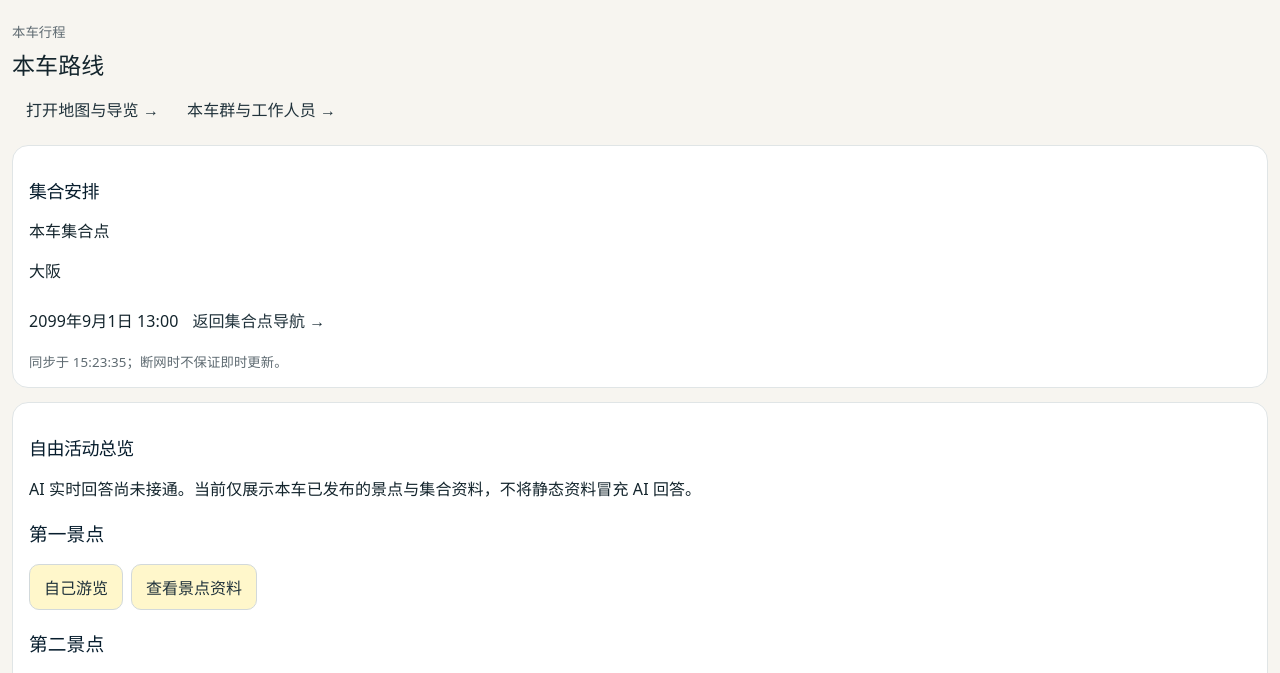
Test: 本车景点导览行为 › 景点独立阅读，结束回总览，集合更新打断且确认提交服务端版本
Click the button "查看景点资料" below "第一景点" at (194, 587), box [131,564,257,610]
(page scrolled)
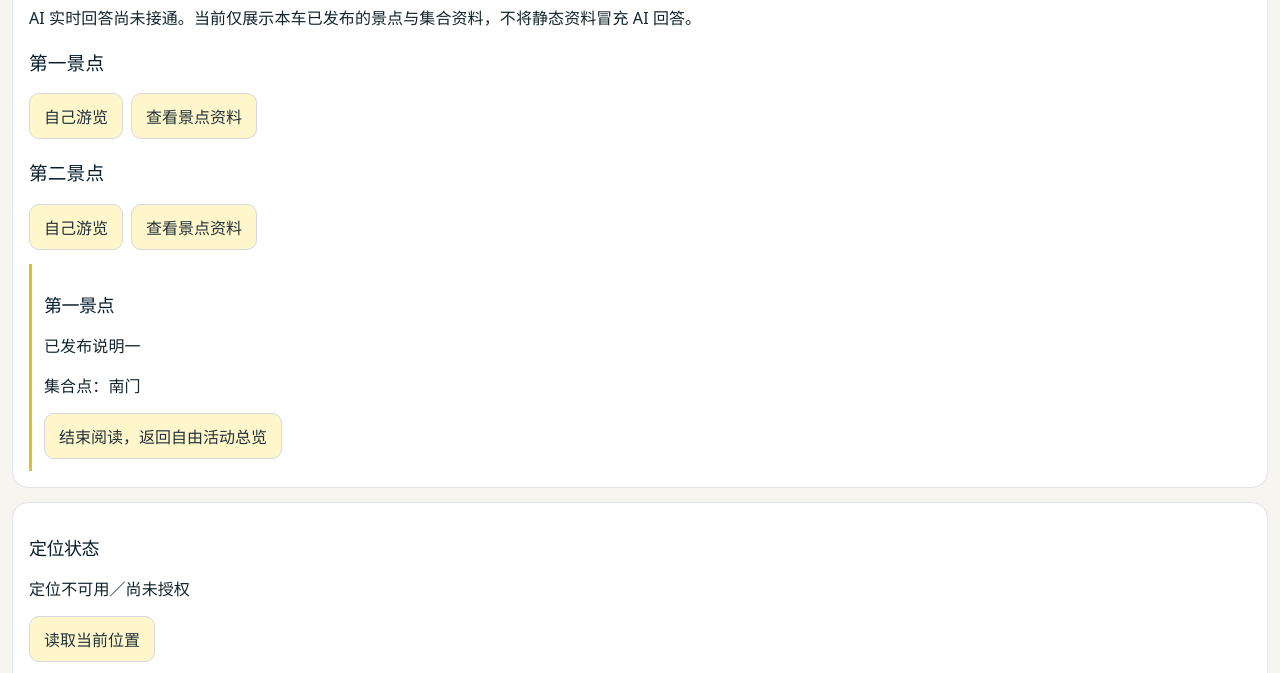
Expected: the text "已发布说明一" is shown, [44,335,141,357]
Click the button "结束阅读，返回自由活动总览" at (163, 436), box [44,413,282,459]
(page scrolled)
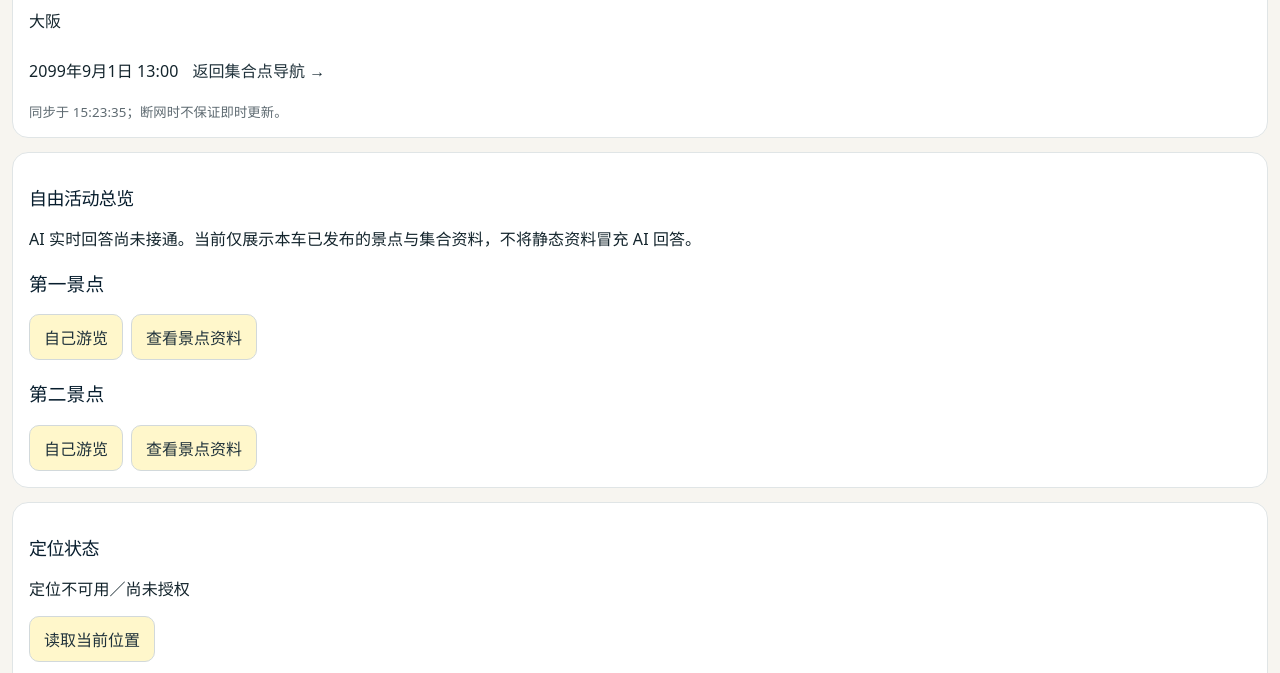
Click the button "查看景点资料" below "第二景点" at (194, 448), box [131,425,257,471]
(page scrolled)
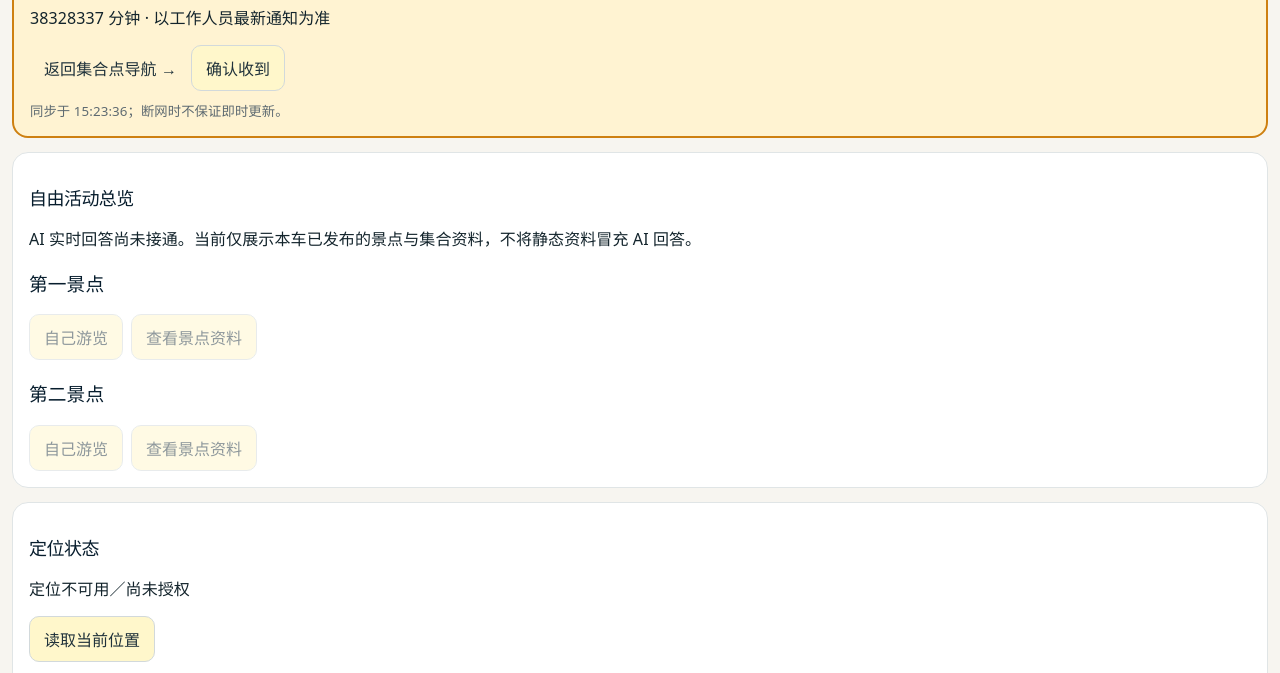
Expected: the button "查看景点资料" below "第一景点" is disabled, [131,314,257,360]
Click the button "确认收到" at (238, 68), box [191,45,285,91]
(page scrolled)
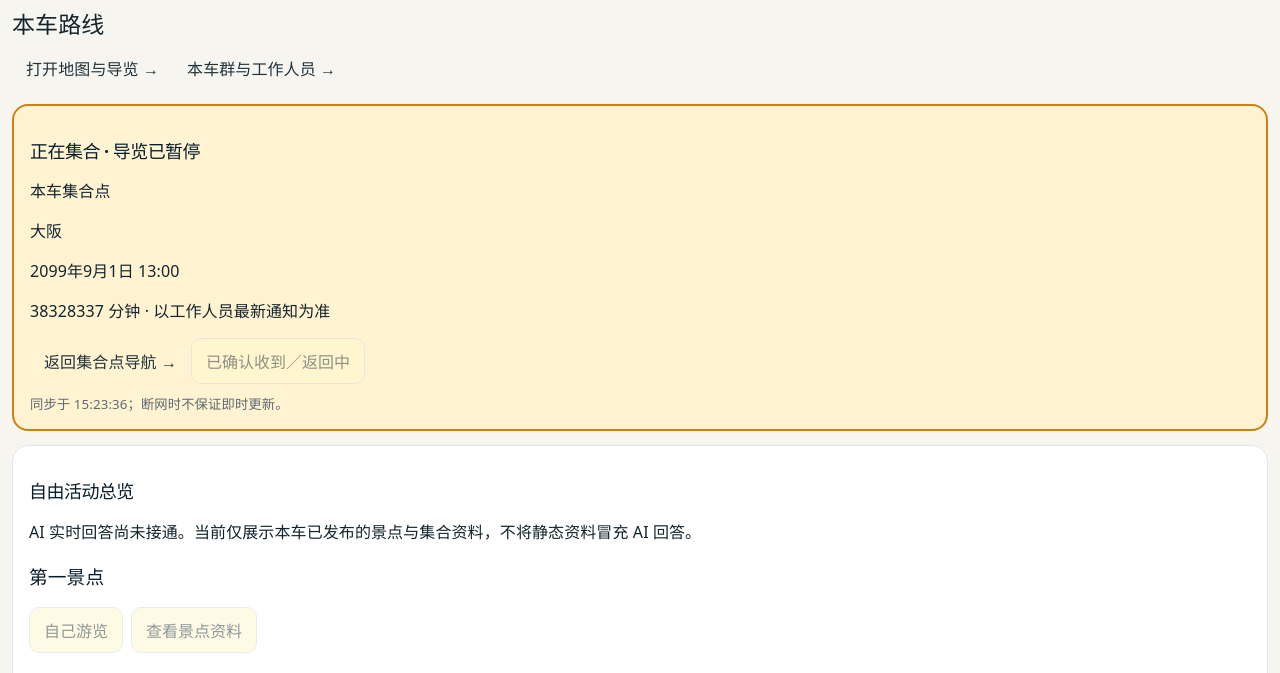
Expected: the button "已确认收到／返回中" is disabled, [191,338,365,384]
